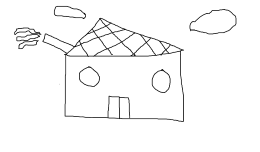clouds: (185, 6, 242, 37), (50, 2, 88, 22)
door: (105, 92, 131, 122)
open_window: (76, 64, 103, 89), (149, 68, 174, 95)
roof: (64, 17, 184, 60)
smoking_chimney: (10, 22, 79, 58)
wall: (62, 51, 188, 123)
